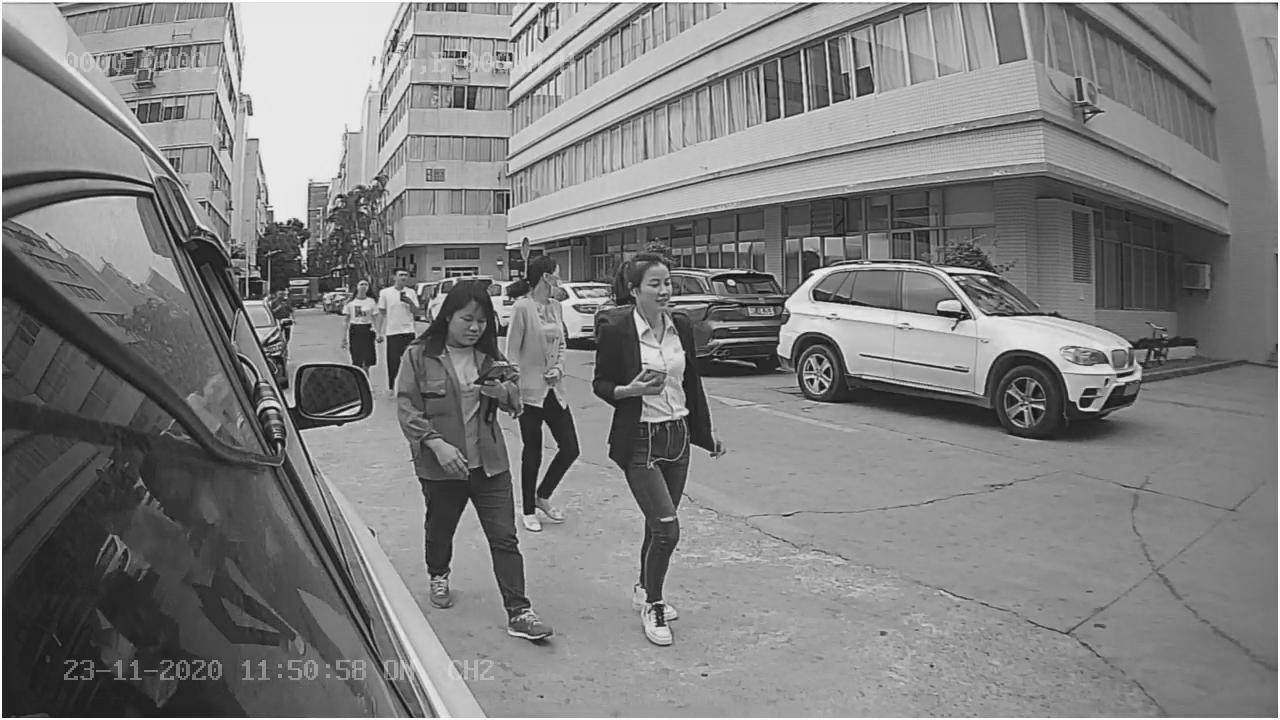person: (596, 254, 706, 645), (393, 270, 525, 466)
